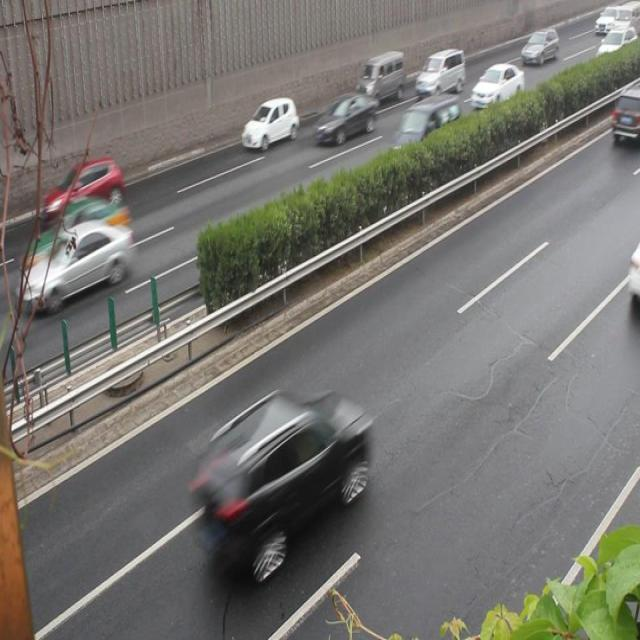car: (192, 387, 366, 569), (23, 216, 131, 312), (29, 196, 128, 278), (43, 154, 121, 224), (312, 91, 374, 145), (241, 97, 296, 147), (469, 61, 522, 110)
